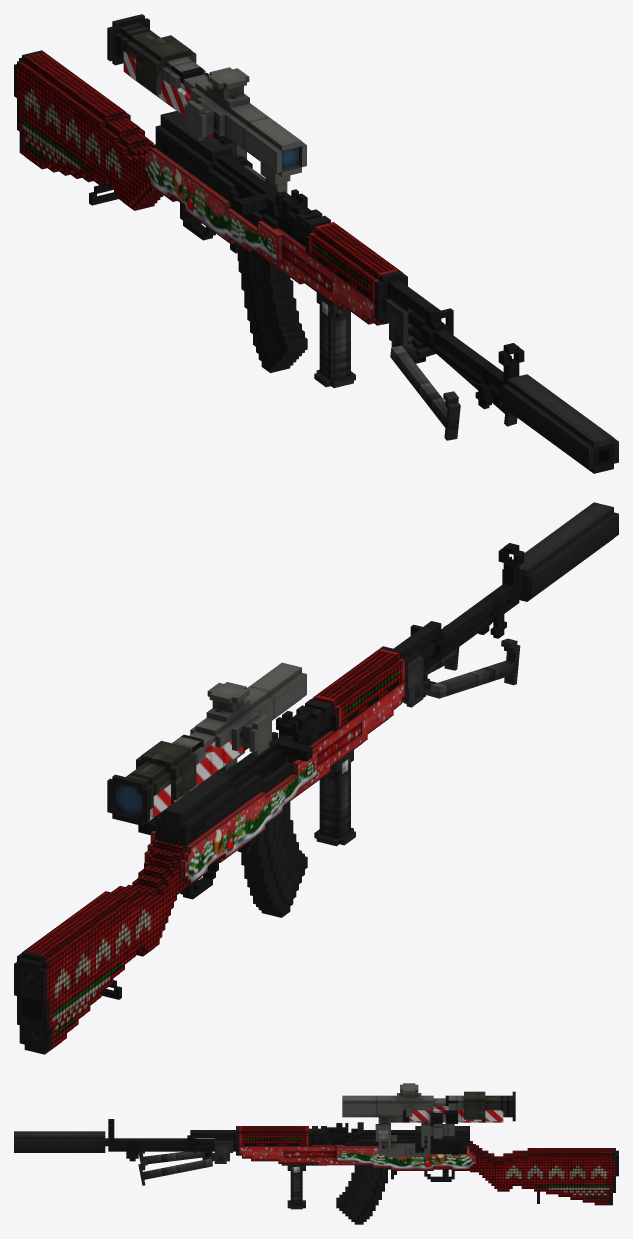
File: RD_SKS_NY.glb
3 views of the same model, one above another, from view 1: azimuth 30°, elevation 25°; view 2: azimuth 150°, elevation 25°; view 3: azimuth 270°, elevation 25° (orthographic). The views are drawn at different scales.
Visible parts, largest first — view 1: SKS, SCOPE_PSO1, SKS_CLIP, SILENCER_6X6, GRIP1, DIPOD1_LEG1, SKS_BOLT, SKS_SCOPE, DIPOD1_BODY; view 2: SKS, SCOPE_PSO1, SILENCER_6X6, SKS_CLIP, GRIP1, SKS_BOLT, DIPOD1_LEG1, SKS_SCOPE, DIPOD1_BODY; view 3: SKS, SCOPE_PSO1, SKS_CLIP, SILENCER_6X6, SKS_SCOPE, DIPOD1_LEG2, GRIP1, DIPOD1_LEG1, SKS_BOLT, DIPOD1_BODY.
Boxes of the visible parts, x1,y1,x2,y2 form: SKS: [14, 50, 524, 409]; SCOPE_PSO1: [107, 14, 306, 192]; SKS_CLIP: [236, 243, 307, 372]; SILENCER_6X6: [502, 374, 618, 473]; GRIP1: [305, 283, 355, 388]; DIPOD1_LEG1: [390, 345, 460, 440]; SKS_BOLT: [212, 154, 290, 215]; SKS_SCOPE: [123, 51, 252, 168]; DIPOD1_BODY: [386, 294, 413, 347]; SKS: [14, 543, 524, 1054]; SCOPE_PSO1: [107, 662, 306, 825]; SILENCER_6X6: [502, 502, 618, 601]; SKS_CLIP: [241, 802, 307, 917]; GRIP1: [314, 749, 355, 846]; SKS_BOLT: [223, 732, 312, 787]; DIPOD1_LEG1: [423, 638, 520, 698]; SKS_SCOPE: [138, 734, 247, 834]; DIPOD1_BODY: [404, 651, 423, 707]; SKS: [105, 1119, 618, 1205]; SCOPE_PSO1: [342, 1083, 515, 1156]; SKS_CLIP: [336, 1165, 390, 1224]; SILENCER_6X6: [14, 1131, 105, 1152]; SKS_SCOPE: [403, 1095, 503, 1155]; DIPOD1_LEG2: [138, 1158, 212, 1185]; GRIP1: [281, 1164, 326, 1209]; DIPOD1_LEG1: [138, 1151, 212, 1170]; SKS_BOLT: [351, 1122, 415, 1139]; DIPOD1_BODY: [214, 1138, 232, 1163].
Size of the model in its own units: 0.1378 by 0.4822 by 1.96.
Materials: 5 (5 with a texture image).
